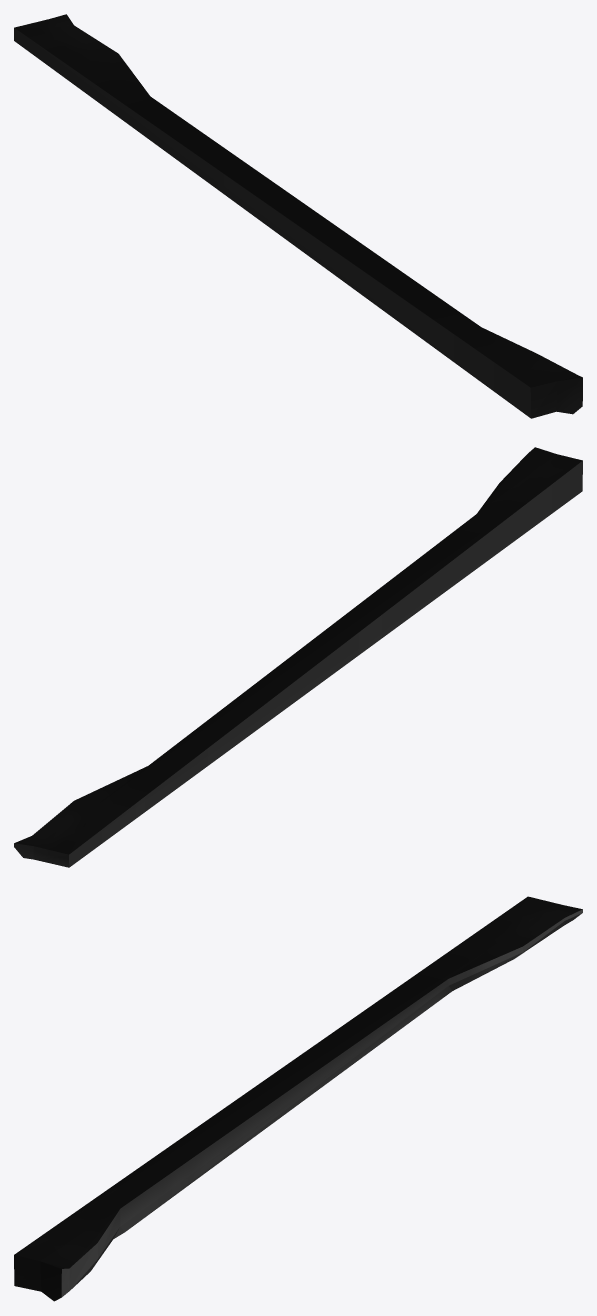
File: Muscle_1_Sidepanel_1_R.fbx
3 views of the same model, one above another, from view 1: azimuth 30°, elevation 25°; view 2: azimuth 150°, elevation 25°; view 3: azimuth 330°, elevation 25° (orthographic).
Parts seen in each view (by area): view 1: Muscle_1_Sidepanel_1_R; view 2: Muscle_1_Sidepanel_1_R; view 3: Muscle_1_Sidepanel_1_R.
Part boxes in pixels (left/top/right/bottom): Muscle_1_Sidepanel_1_R: left=14, top=14, right=582, bottom=418; Muscle_1_Sidepanel_1_R: left=14, top=447, right=582, bottom=867; Muscle_1_Sidepanel_1_R: left=14, top=896, right=582, bottom=1301.
Size of the model in its own units: 4.23 by 2.69 by 70.47.
